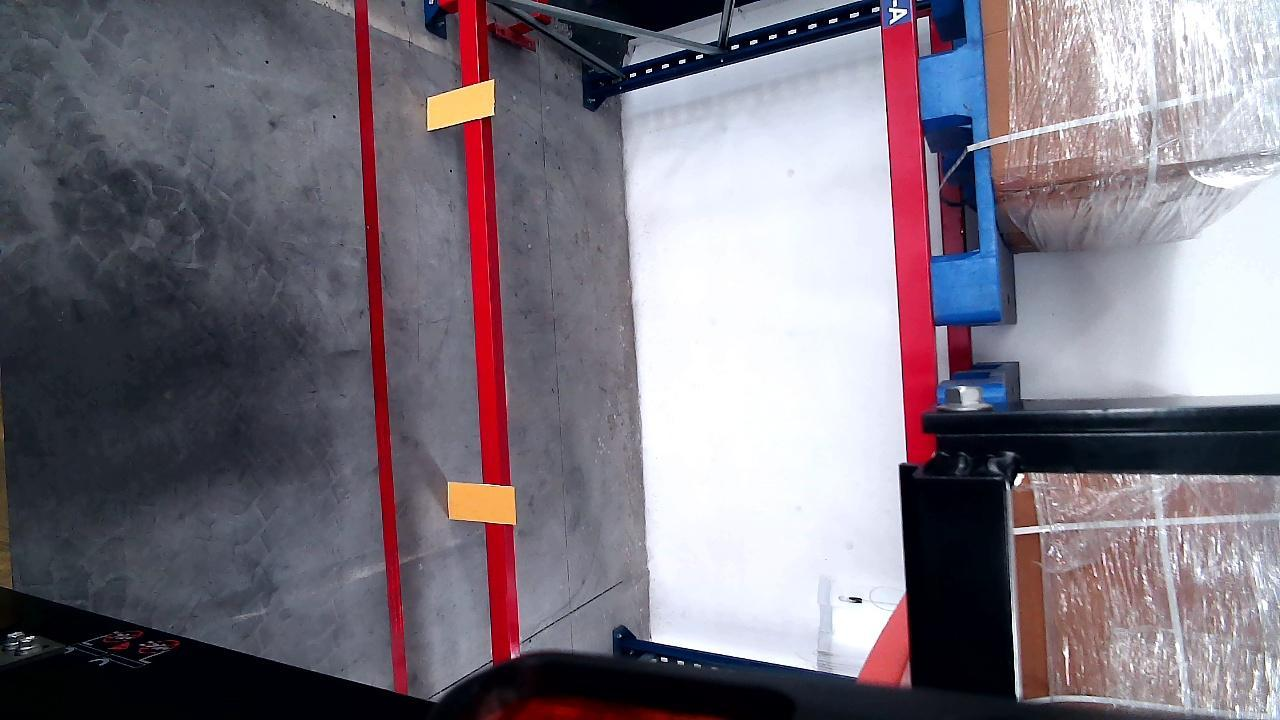red_line: (352, 0, 404, 701)
